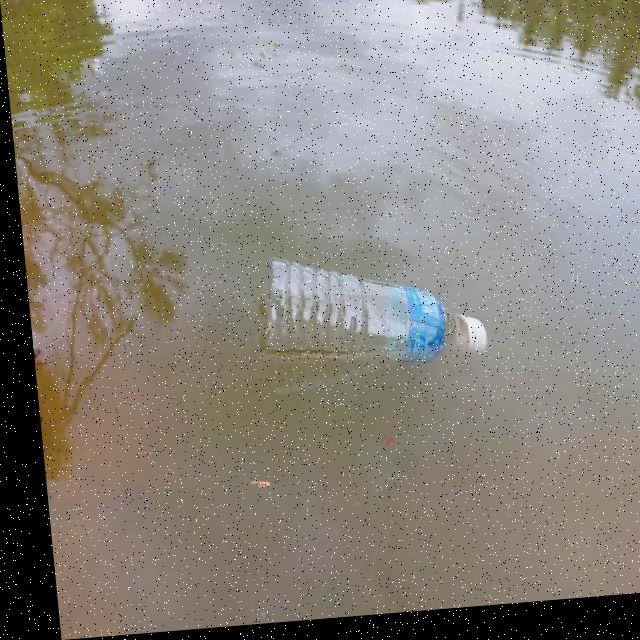waterbottle: (236, 246, 491, 417)
